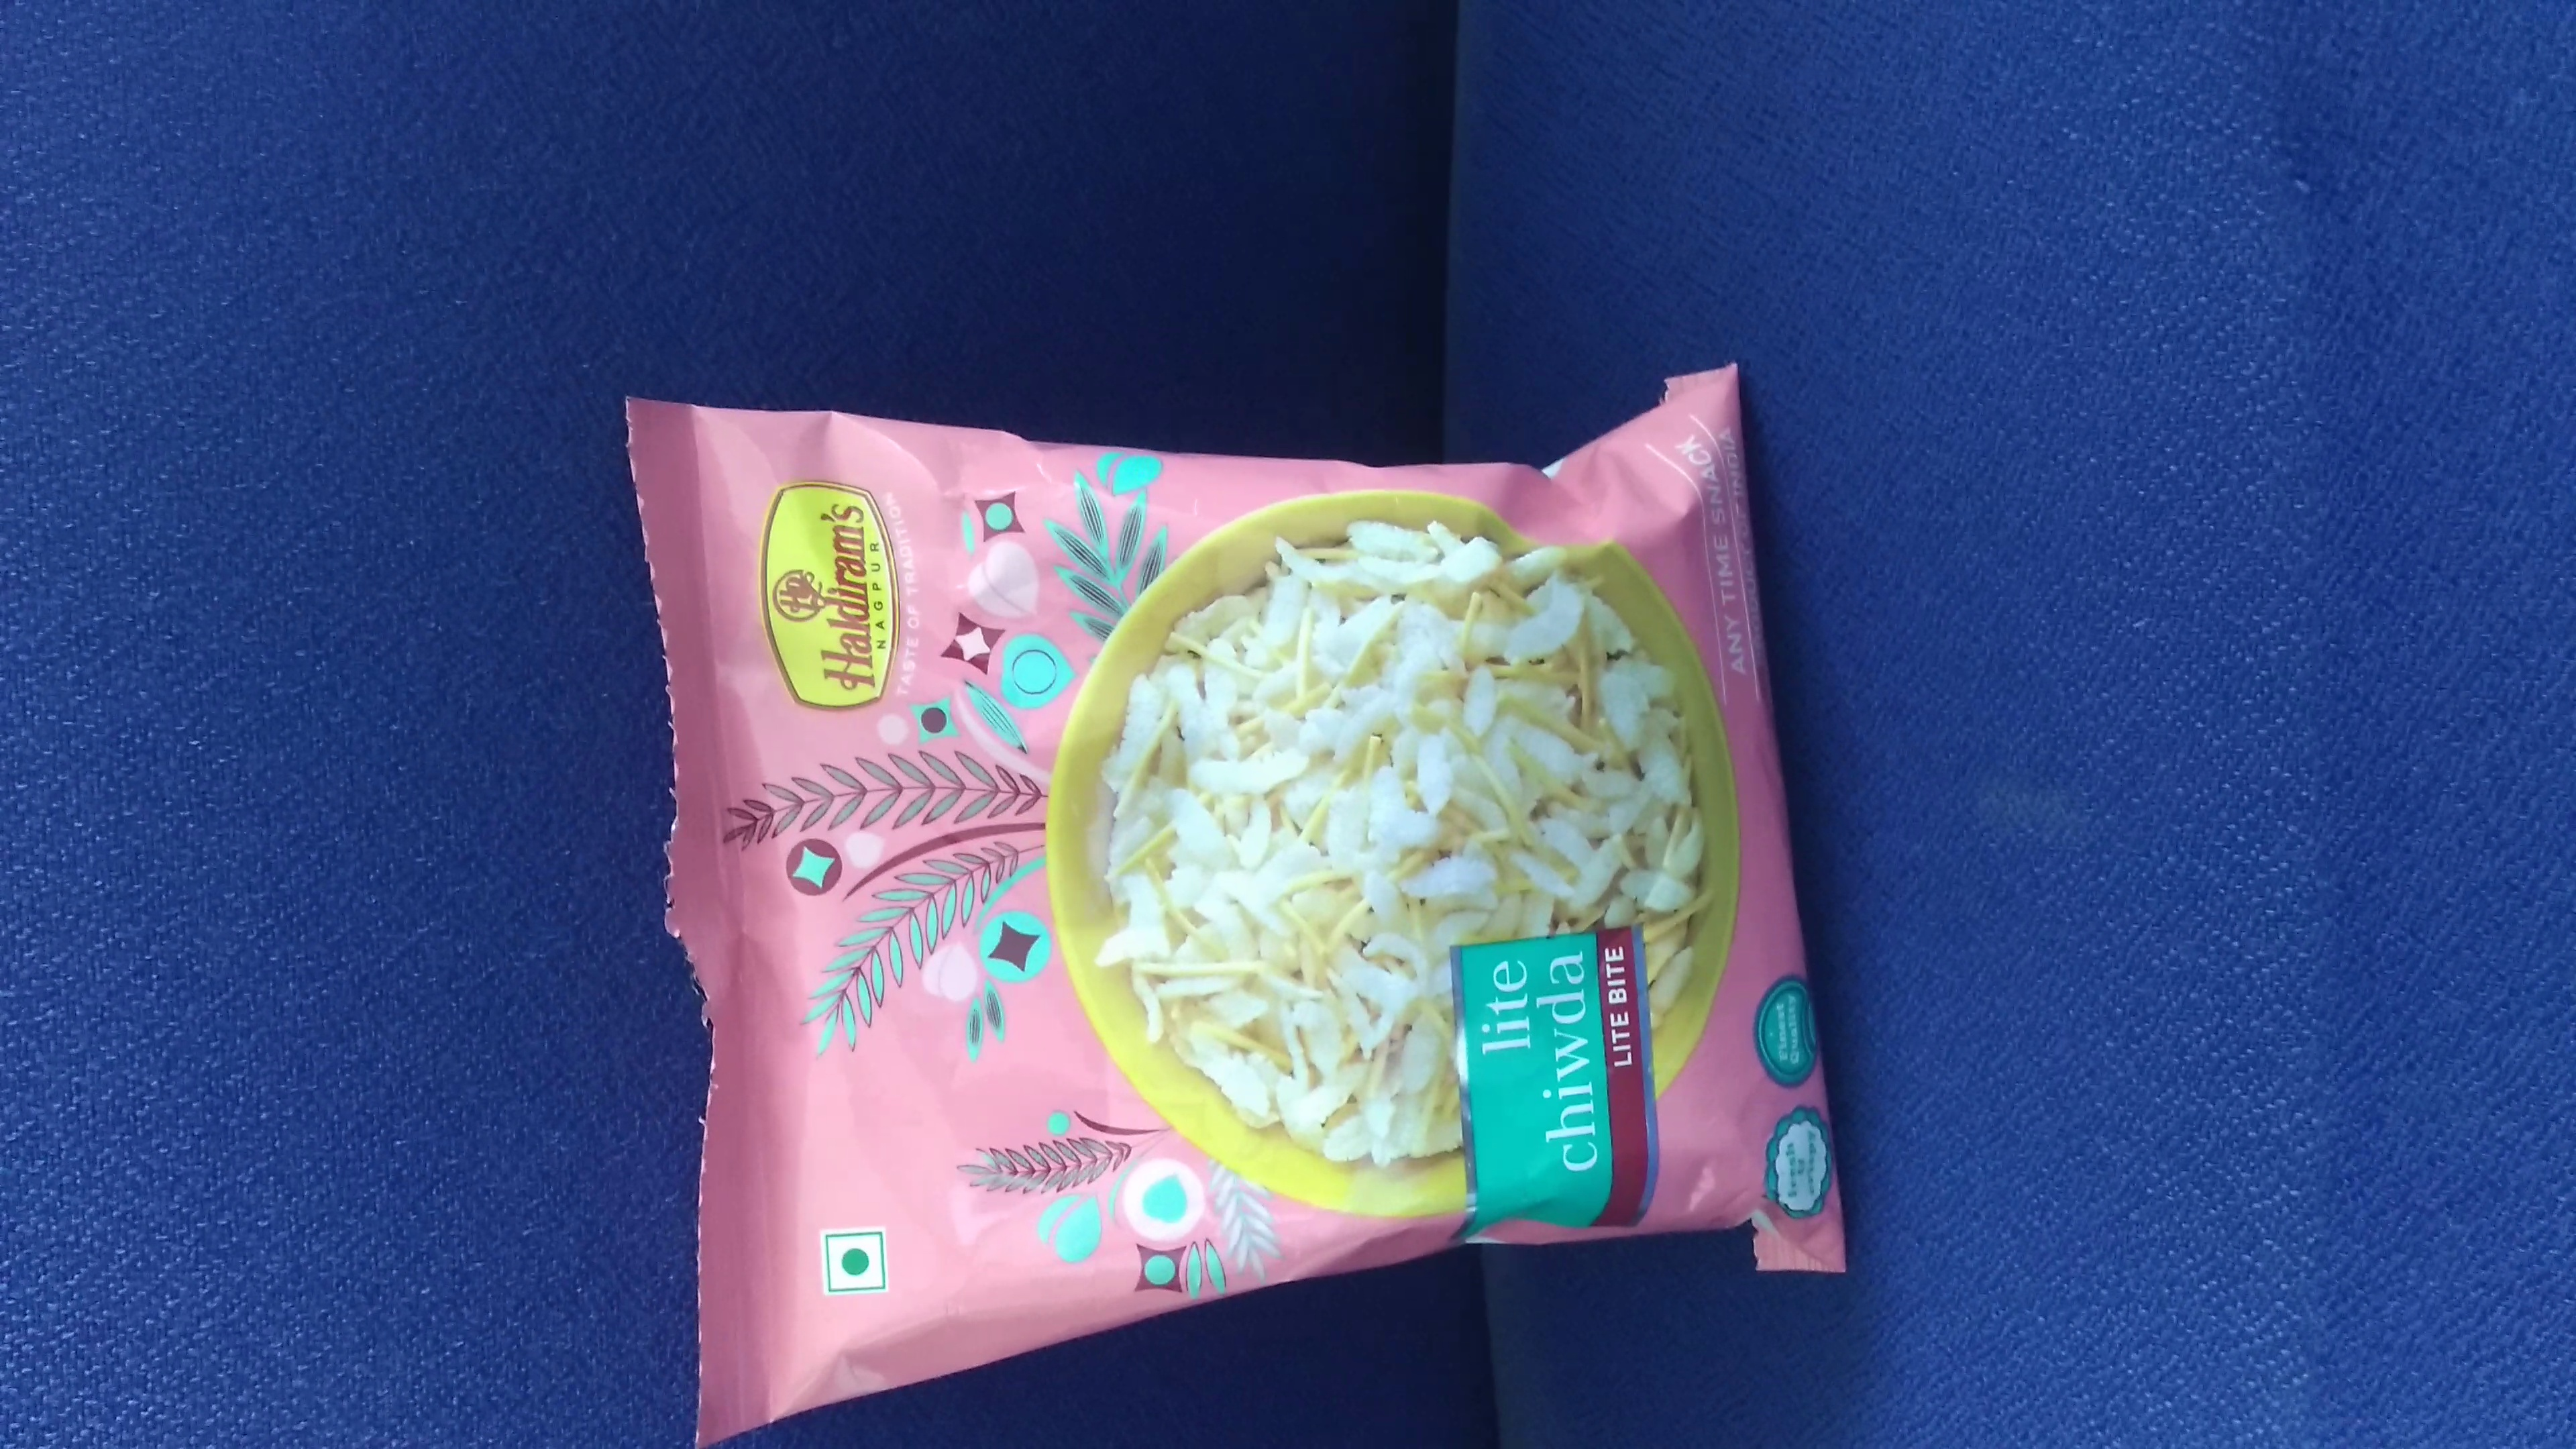blueChair: (76, 50, 412, 326)
liteChiwda: (610, 357, 1865, 1449)
